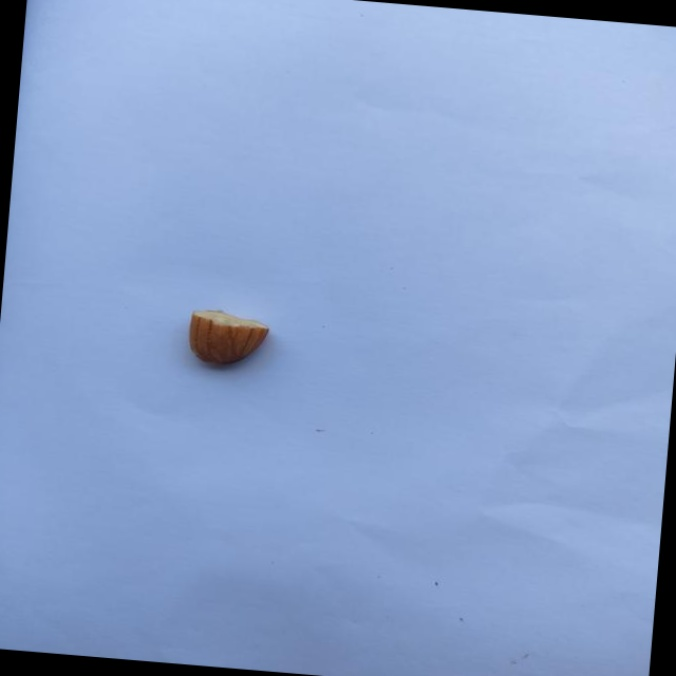grade4: (179, 303, 280, 377)
